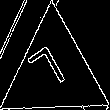L_SE: (30, 42, 77, 102)
